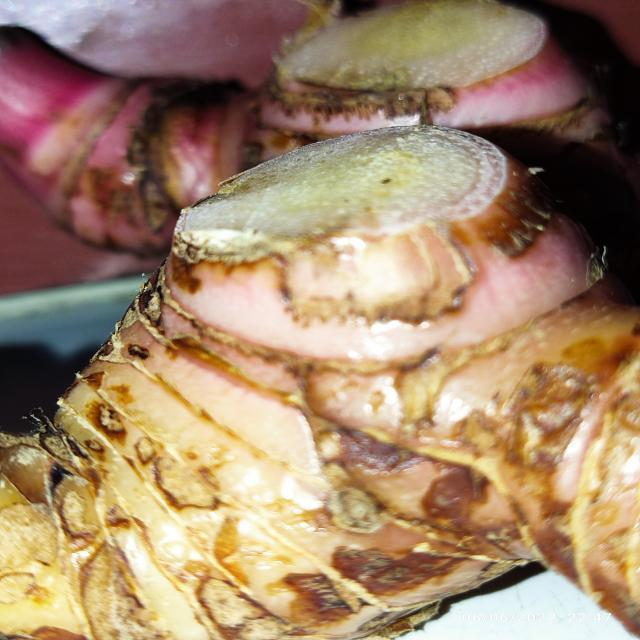ginger: (17, 120, 600, 595)
